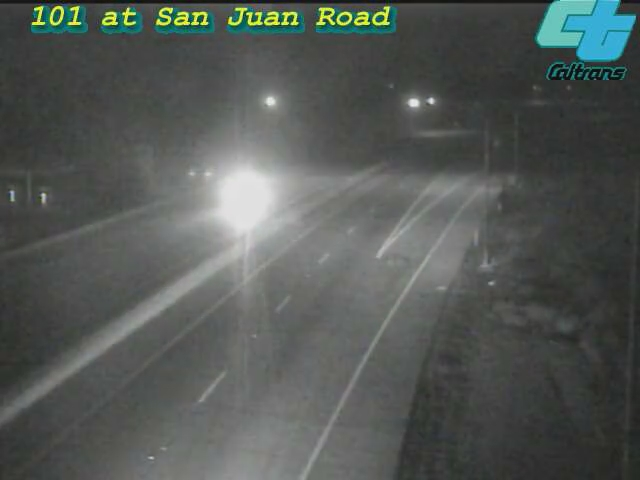vehicle: (197, 160, 277, 240)
